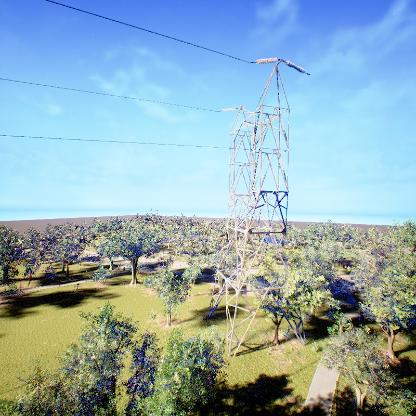tower: (201, 52, 314, 357)
